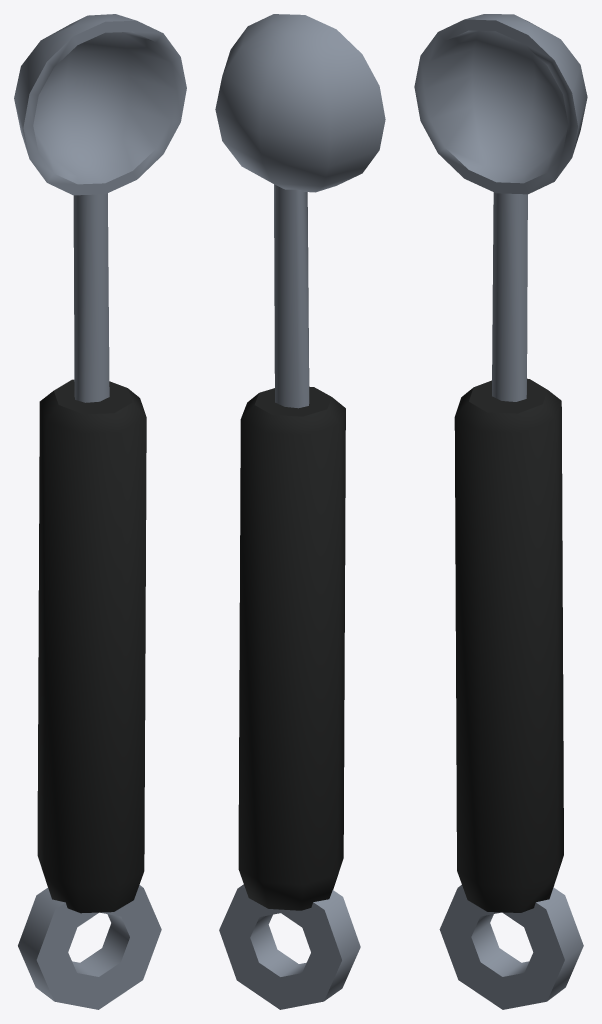
Rendered from cooking_assets_melon_baller.glb.
The picture shows the model from 3 angles, left to right: view 1: azimuth 30°, elevation 25°; view 2: azimuth 150°, elevation 25°; view 3: azimuth 330°, elevation 25°; orthographic projection.
Visible parts, largest first — view 1: cutensils_melon_baller_Cylinder.058; view 2: cutensils_melon_baller_Cylinder.058; view 3: cutensils_melon_baller_Cylinder.058.
Boxes of the visible parts, <box> form: cutensils_melon_baller_Cylinder.058: <box>14,14,186,1009</box>; cutensils_melon_baller_Cylinder.058: <box>215,14,385,1009</box>; cutensils_melon_baller_Cylinder.058: <box>414,14,587,1009</box>.
Size of the model in its own units: 0.8713 by 5.05 by 0.5857.
1 material, 1 textured.
